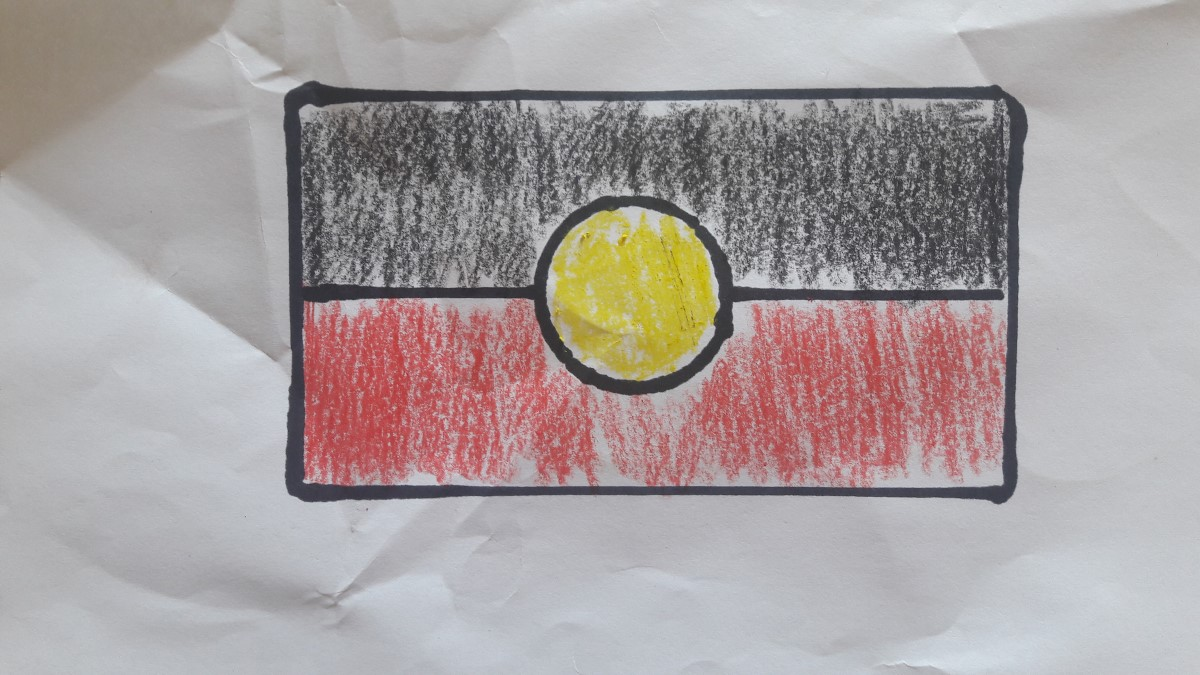aboriginal_flag: (280, 83, 1026, 512)
